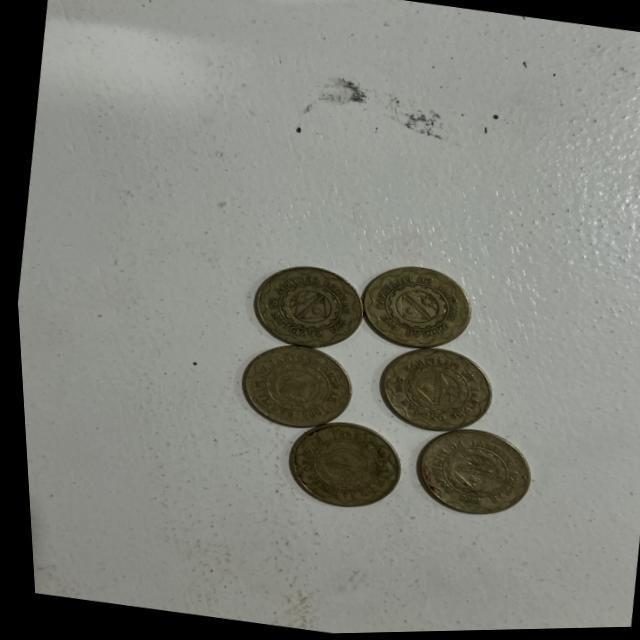5_Old_Back: (269, 415, 406, 515), (398, 425, 531, 528), (366, 342, 495, 443), (228, 337, 357, 436), (345, 257, 471, 357), (241, 256, 359, 357)
